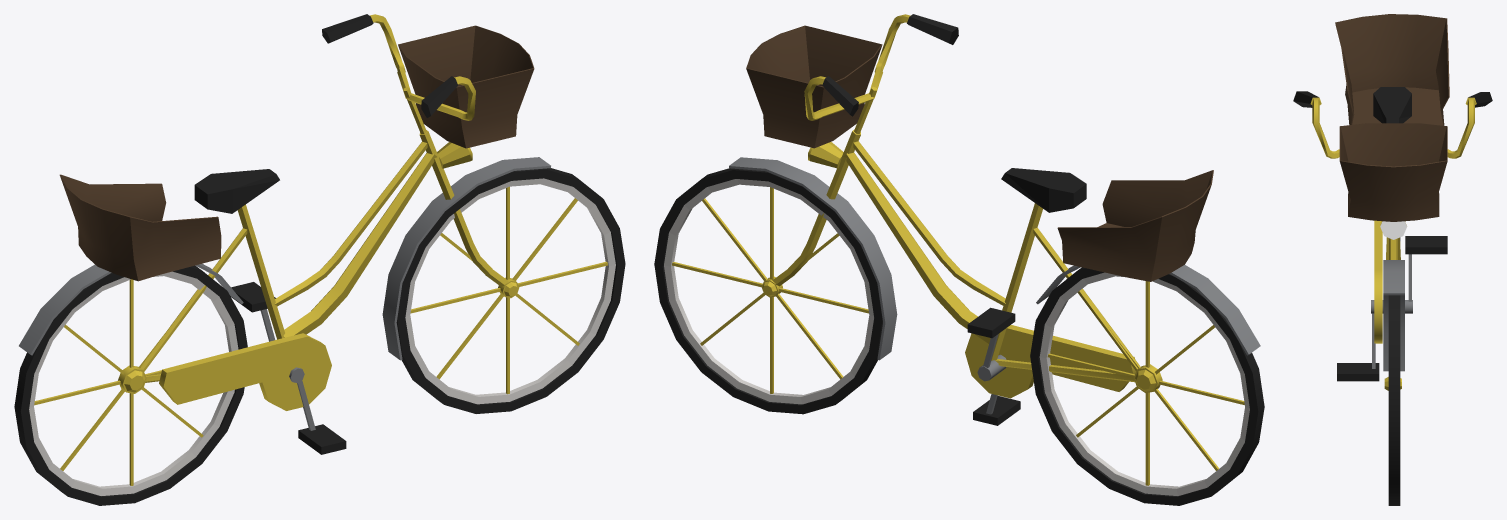
Rendered from SM_citybike_yellow.fbx.
3 renders of one model, left to right at view 1: azimuth 30°, elevation 25°; view 2: azimuth 150°, elevation 25°; view 3: azimuth 270°, elevation 25°, orthographic. The views are drawn at different scales.
Visible parts, largest first — view 1: Box111; view 2: Box111; view 3: Box111.
Boxes of the visible parts, left/top/right/bottom form: Box111: left=14, top=14, right=625, bottom=505; Box111: left=654, top=14, right=1264, bottom=505; Box111: left=1293, top=14, right=1492, bottom=505.
Bounding box in the file's own units: 101 × 31.54 × 61.8.
